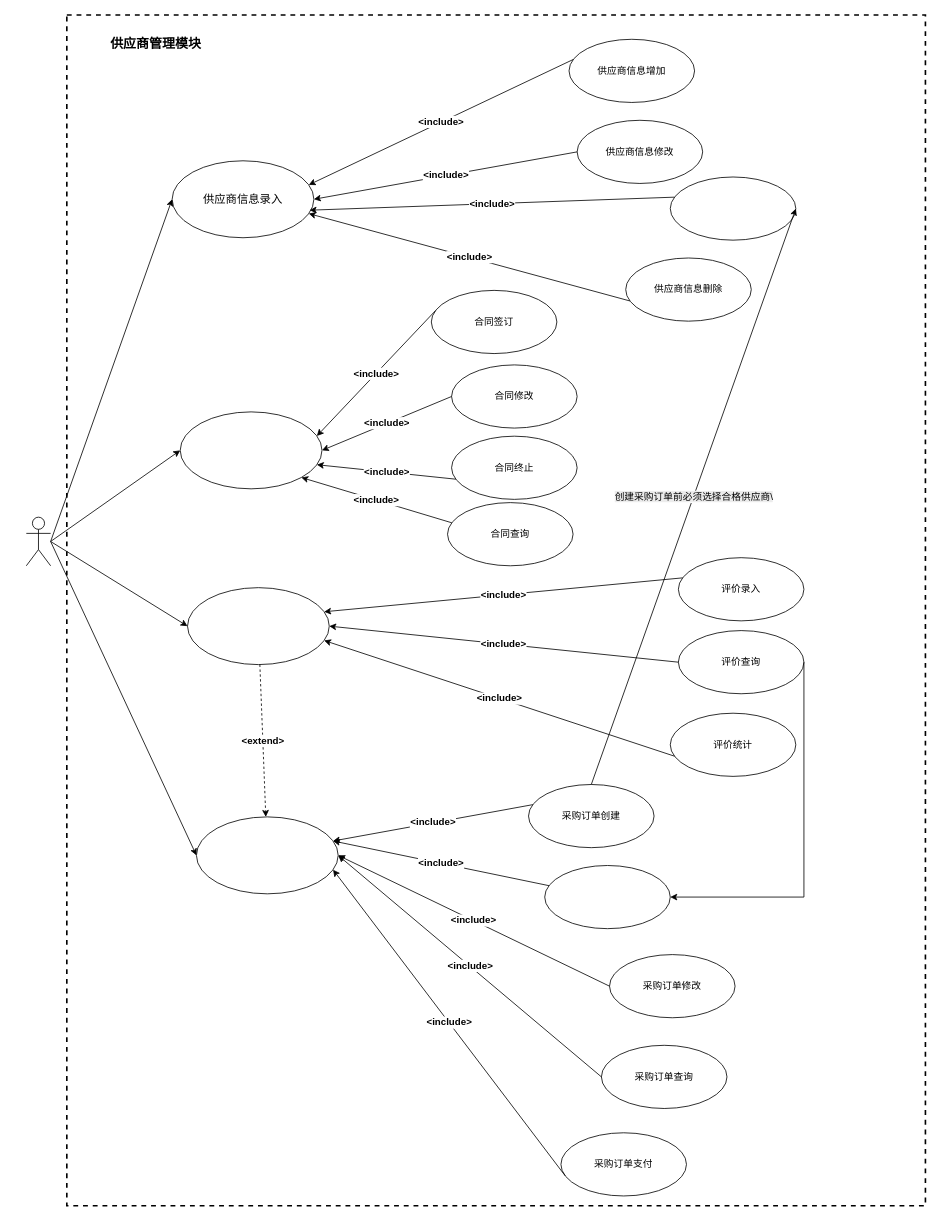
Image size: 940x1220. Some labels were removed from this diagram. Each missing label, with the centre of its shape:
供应商信息查询: pixel 732 208
供应商合同管理: pixel 250 450
供应商评价会影响采购订单优先级: pixel 824 869
供应商评价管理: pixel 258 626
商品管理员: pixel 38 541
采购订单审核: pixel 607 897
采购订单管理: pixel 267 855
